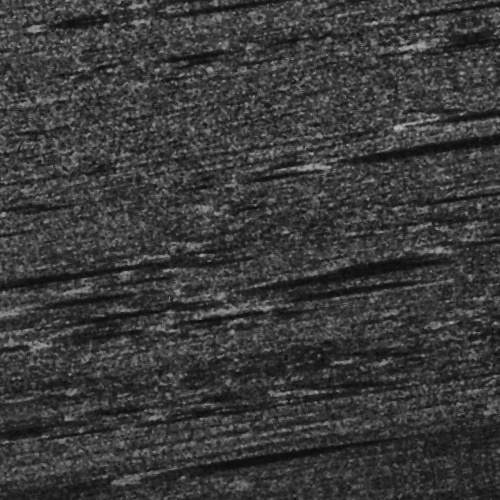object: (78, 449, 171, 462), (209, 296, 302, 305), (191, 281, 254, 290), (407, 142, 460, 151), (294, 170, 367, 175), (229, 308, 270, 315), (0, 270, 32, 277), (169, 1, 200, 6)
shadow: (125, 449, 293, 462), (223, 281, 428, 290), (0, 241, 133, 254), (256, 296, 433, 305), (250, 308, 397, 315), (6, 270, 134, 277), (330, 170, 500, 175), (185, 1, 332, 6), (434, 142, 500, 151), (0, 8, 26, 17)
